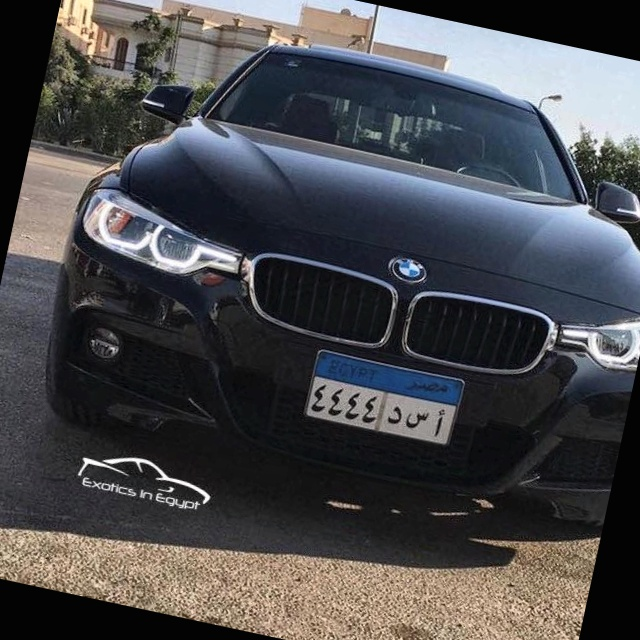License Plate: (300, 347, 467, 451)
